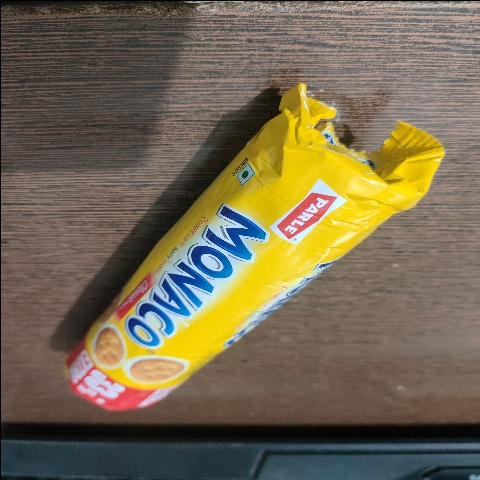monaco: (32, 81, 448, 434)
